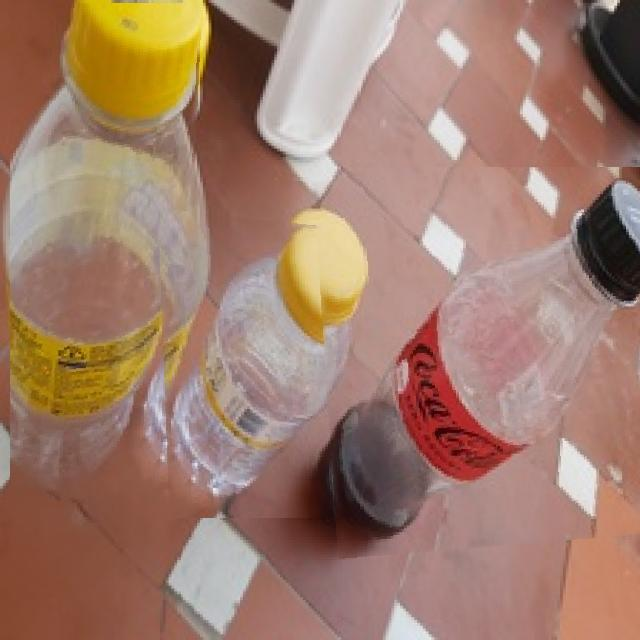plastic bottle: (312, 167, 640, 559), (10, 3, 203, 508), (158, 208, 368, 518)
